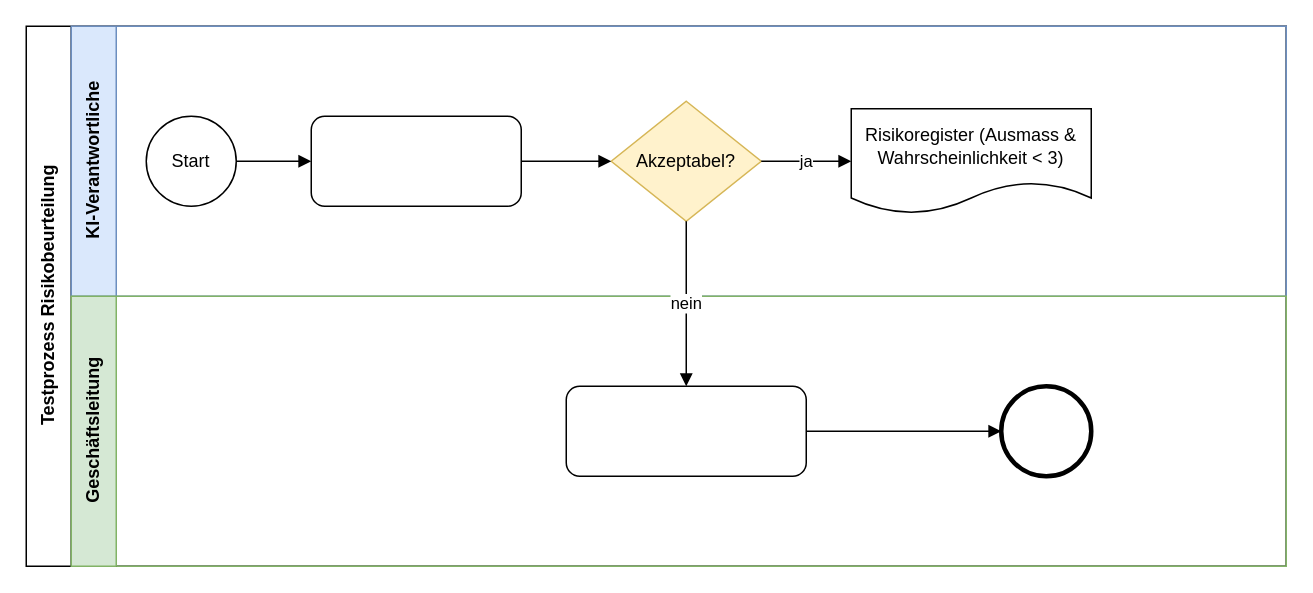
This 1313x593 diagram has some shape labels left out. Here are the shapes that lost their labels. From the top down, the centre of each, then its label:
At (415,160): "Risiken identifizieren".
At (685,430): "Behandlung freigeben".
At (1045,430): "Ende".
